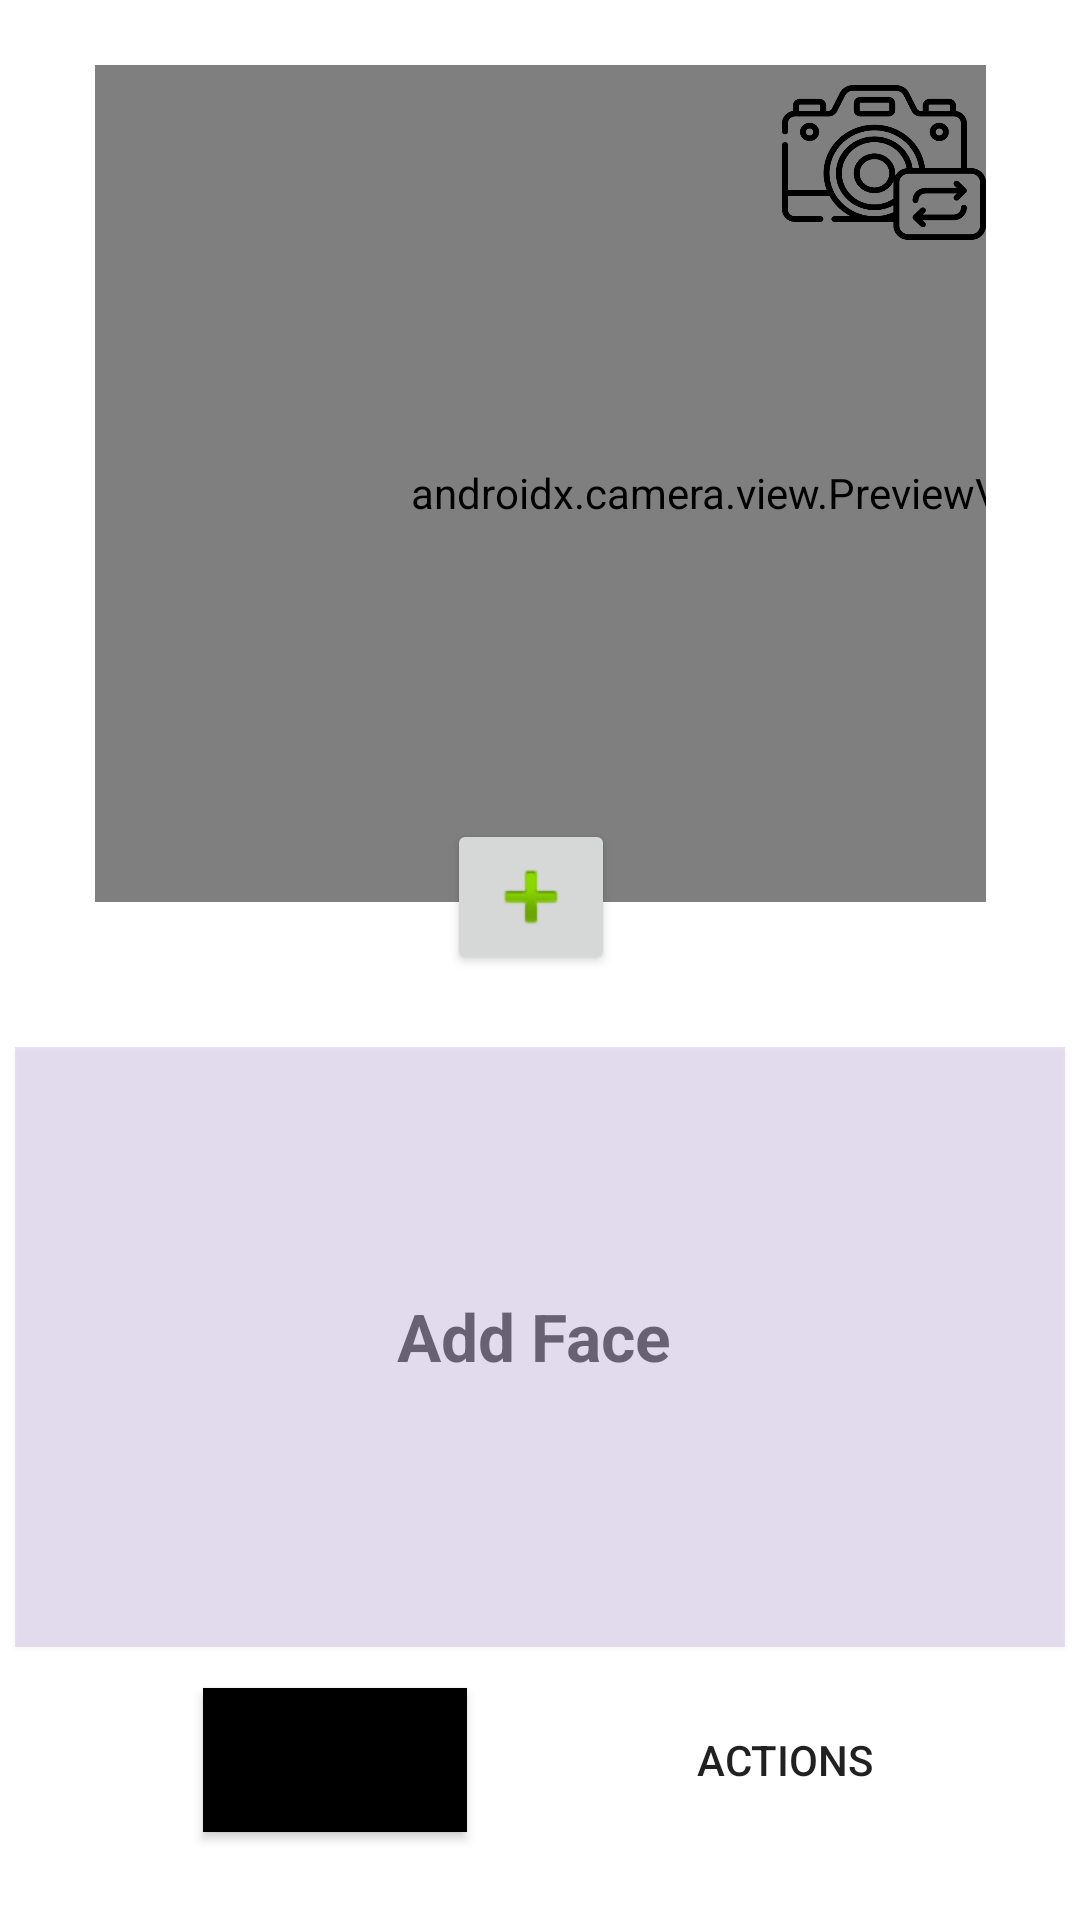

Icons on this 1080w x 1920h Android screen, each with the point to tap as [x,y]:
add: [531,897]
